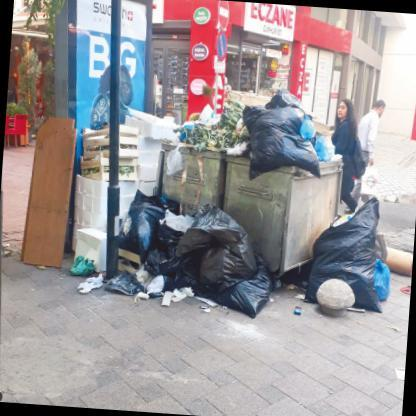Garbage: (122, 189, 278, 322), (218, 149, 346, 273), (308, 190, 405, 290), (236, 91, 329, 187)
